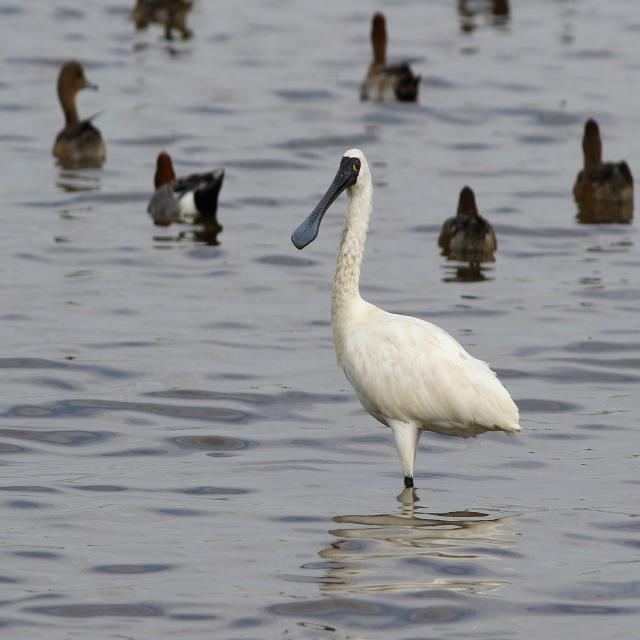Black-faced spoonbill: (292, 149, 521, 486)
